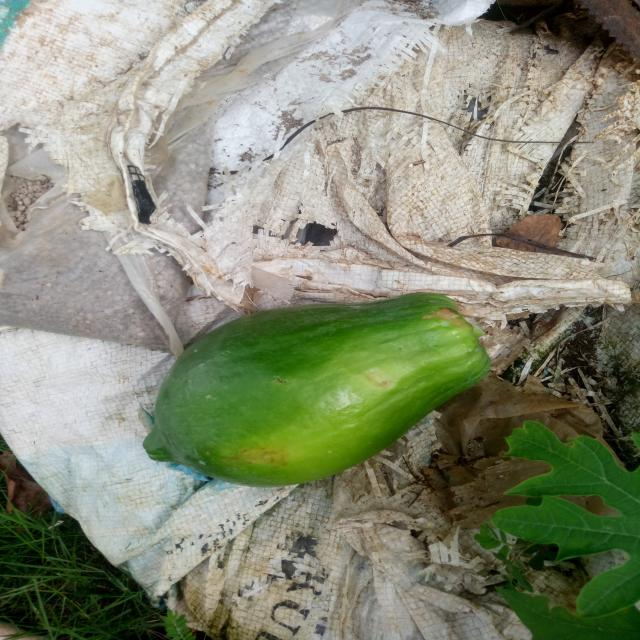Pepaya unrippen: (118, 286, 495, 487)
